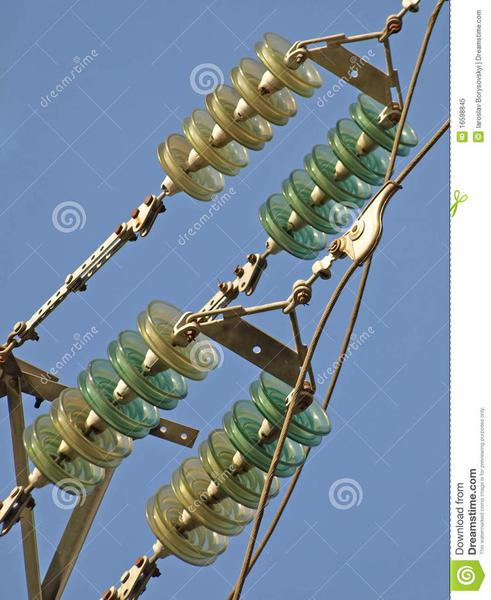isolator: (20, 298, 333, 568), (154, 32, 419, 261)
